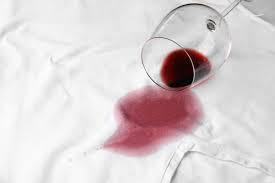oil: (106, 89, 202, 150)
